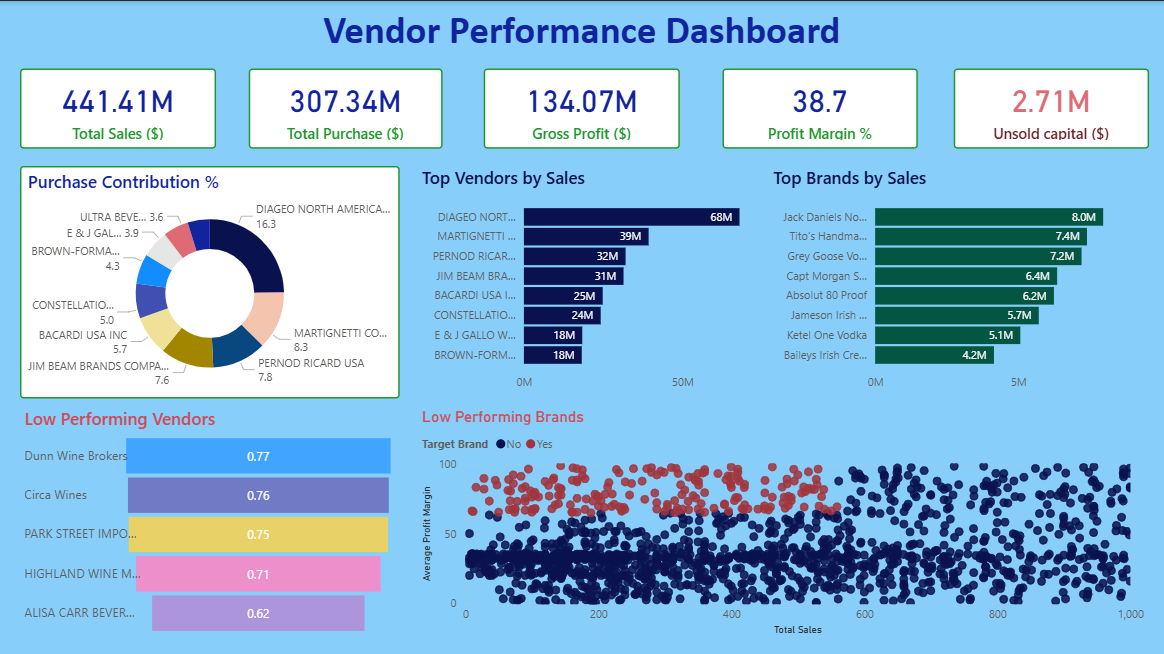

What the dashboard file says about the page in this screenshot:
{"tool":"powerbi","page":{"name":"Page 1","canvas":[1280,720],"ordinal":0},"visuals":[{"type":"textbox","box":[343.1,0,591.4,74.1],"z":0},{"type":"card","fields":{"Values":["Sum(vendor_sales_summary.TotalSalesDollars)"]},"box":[22,74.1,215.4,87.8],"z":1},{"type":"card","fields":{"Values":["Sum(vendor_sales_summary.Unsold capital)"]},"box":[1047,74.1,214.1,87.8],"z":2},{"type":"card","fields":{"Values":["Avg(vendor_sales_summary.ProfitMargin)"]},"box":[793.1,74.1,214.1,87.8],"z":3},{"type":"card","fields":{"Values":["Sum(vendor_sales_summary.GrossProfit)"]},"box":[531,74.1,215.4,87.8],"z":4},{"type":"card","fields":{"Values":["Sum(vendor_sales_summary.TotalPurchaseDollars)"]},"box":[273.1,74.1,212.7,87.8],"z":5},{"type":"donutChart","title":"Purchase Contribution %","fields":{"Category":["PurchaseContribution.VendorName"],"Y":["Sum(PurchaseContribution.PurchaseContribution%)"]},"box":[22,181.1,417.2,255.2],"z":6},{"type":"barChart","title":"Top Vendors by Sales","fields":{"Category":["vendor_sales_summary.VendorName"],"Y":["Sum(vendor_sales_summary.TotalSalesDollars)"]},"box":[458.3,181.1,417.2,255.2],"z":7},{"type":"barChart","title":"Top Brands by Sales","fields":{"Category":["vendor_sales_summary.Description"],"Y":["Sum(vendor_sales_summary.TotalSalesDollars)"]},"box":[843.9,181.1,417.2,255.2],"z":8},{"type":"funnel","title":"Low Performing Vendors","fields":{"Y":["Sum(LowTurnoverVendor.AvgStockTurnover)"],"Category":["LowTurnoverVendor.VendorName"]},"box":[22,446,417,255],"z":9},{"type":"scatterChart","title":"Low Performing Brands ","fields":{"X":["Sum(Brand Performance.Total Sales)"],"Category":["Brand Performance.Description"],"Y":["Sum(Brand Performance.Avg Profit Margin)"],"Series":["Brand Performance.Target Brand"]},"box":[458.3,446,802.7,255.2],"z":10}]}

Visuals, with their boxes in screenshot pixels (x1, y1, x2, y2), scaled from the page's 1280x720 canvas onto the 1164x654 screenshot:
textbox: 312, 0, 850, 67
card - Sum(vendor_sales_summary.TotalSalesDollars): 20, 67, 216, 147
card - Sum(vendor_sales_summary.Unsold capital): 952, 67, 1147, 147
card - Avg(vendor_sales_summary.ProfitMargin): 721, 67, 916, 147
card - Sum(vendor_sales_summary.GrossProfit): 483, 67, 679, 147
card - Sum(vendor_sales_summary.TotalPurchaseDollars): 248, 67, 442, 147
"Purchase Contribution %" donutChart: 20, 164, 399, 396
"Top Vendors by Sales" barChart: 417, 164, 796, 396
"Top Brands by Sales" barChart: 767, 164, 1147, 396
"Low Performing Vendors" funnel: 20, 405, 399, 637
"Low Performing Brands " scatterChart: 417, 405, 1147, 637
